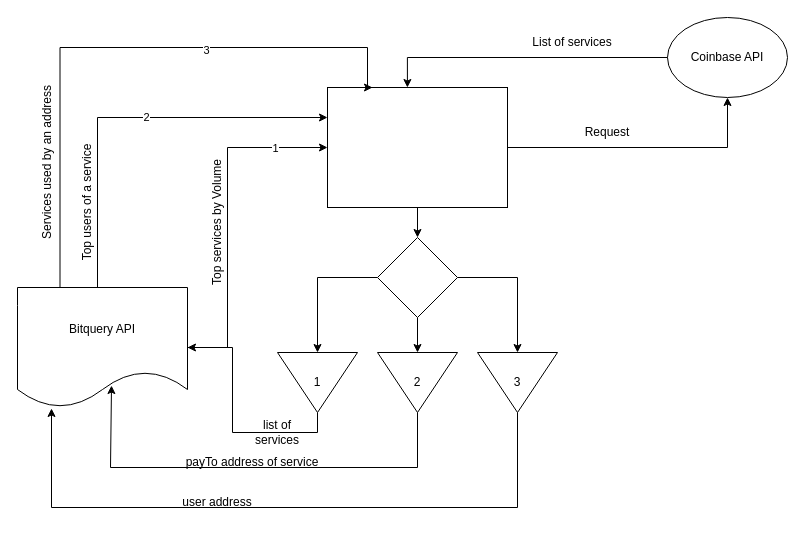
The diagram is 805 pixels wide and 535 high, and some of its shapes have lost their labels. Here are the shapes that lost their labels. From the top down, the box of each, then its label:
(326, 86, 508, 208): Terminal Application
(376, 236, 458, 318): User Input
